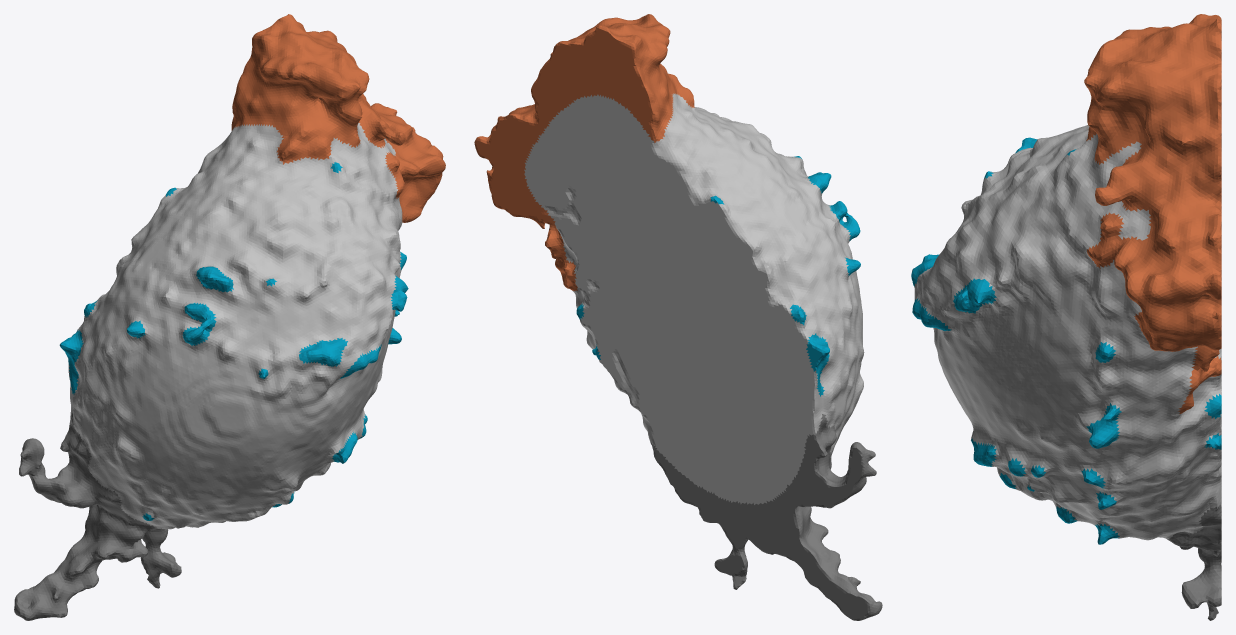
The picture shows the model from 3 angles, left to right: view 1: azimuth 30°, elevation 25°; view 2: azimuth 150°, elevation 25°; view 3: azimuth 270°, elevation 25°; orthographic projection. The views are drawn at different scales.
Bounding box in the file's own units: 132 × 167 × 69.08.
